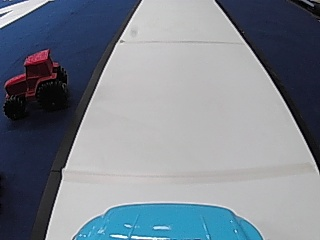tractor: (0, 48, 73, 120)
